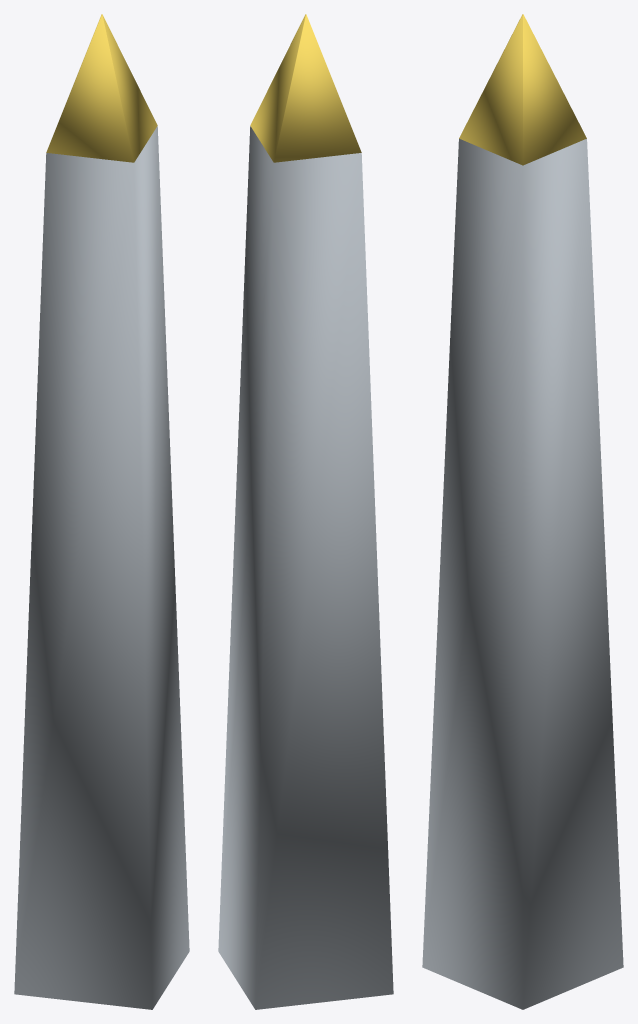
File: obelisk.glb
The picture shows the model from 3 angles, left to right: view 1: azimuth 30°, elevation 25°; view 2: azimuth 150°, elevation 25°; view 3: azimuth 270°, elevation 25°; orthographic projection.
Parts seen in each view (by area): view 1: shaft, tip; view 2: shaft, tip; view 3: shaft, tip.
Boxes of the visible parts, x1,y1,x2,y2 form: shaft: (14,126,189,1009); tip: (46,14,157,162); shaft: (218,126,393,1009); tip: (250,14,361,162); shaft: (422,138,623,1009); tip: (459,14,586,165).
Size of the model in its own units: 0.44 by 2.3 by 0.44.
